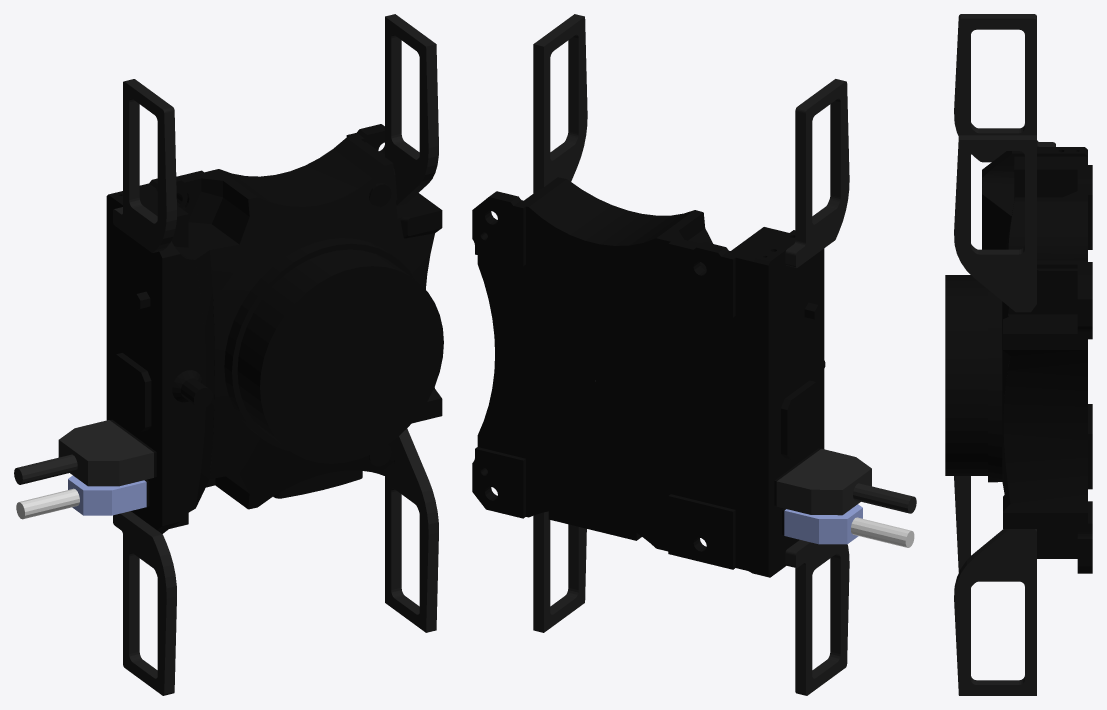
3 renders of one model, left to right at view 1: azimuth 30°, elevation 25°; view 2: azimuth 150°, elevation 25°; view 3: azimuth 270°, elevation 25°, orthographic. The views are drawn at different scales.
Visible parts, largest first — view 1: node; view 2: node; view 3: node.
Part boxes in pixels (<box>): node: <box>14,14,443,695</box>; node: <box>472,14,916,695</box>; node: <box>945,14,1092,695</box>.
Bounding box in the file's own units: 746 × 1020 × 245.
